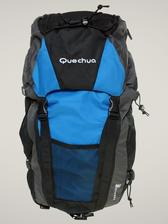bag: (14, 3, 152, 223)
